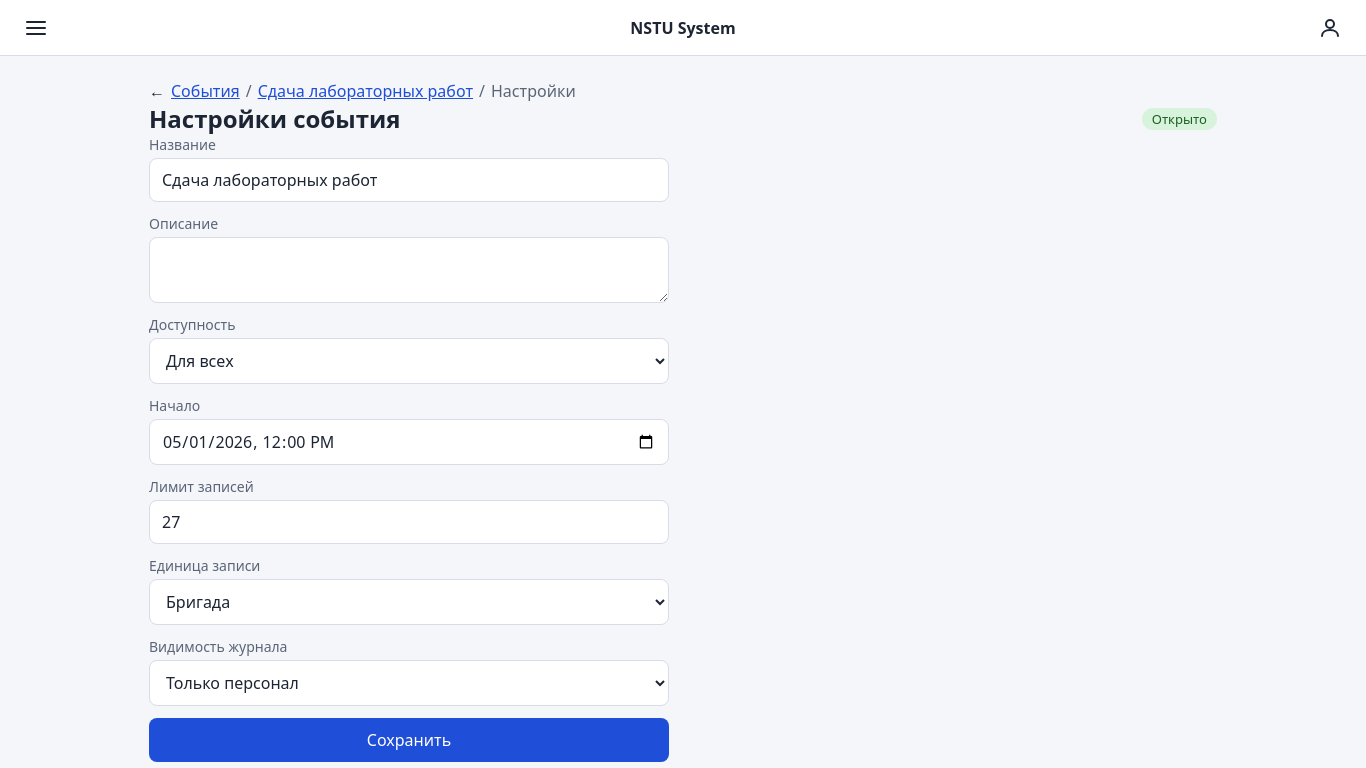
Test: настройки события /e/:slug/settings › сохранение старостой отправляет PATCH без полей администратора
The width and height of the screenshot is (1366, 768).
Step 1. Replace the text in the field labelled "Название" with "Новое название" → coordinates (409, 180), box [149,158,669,202]
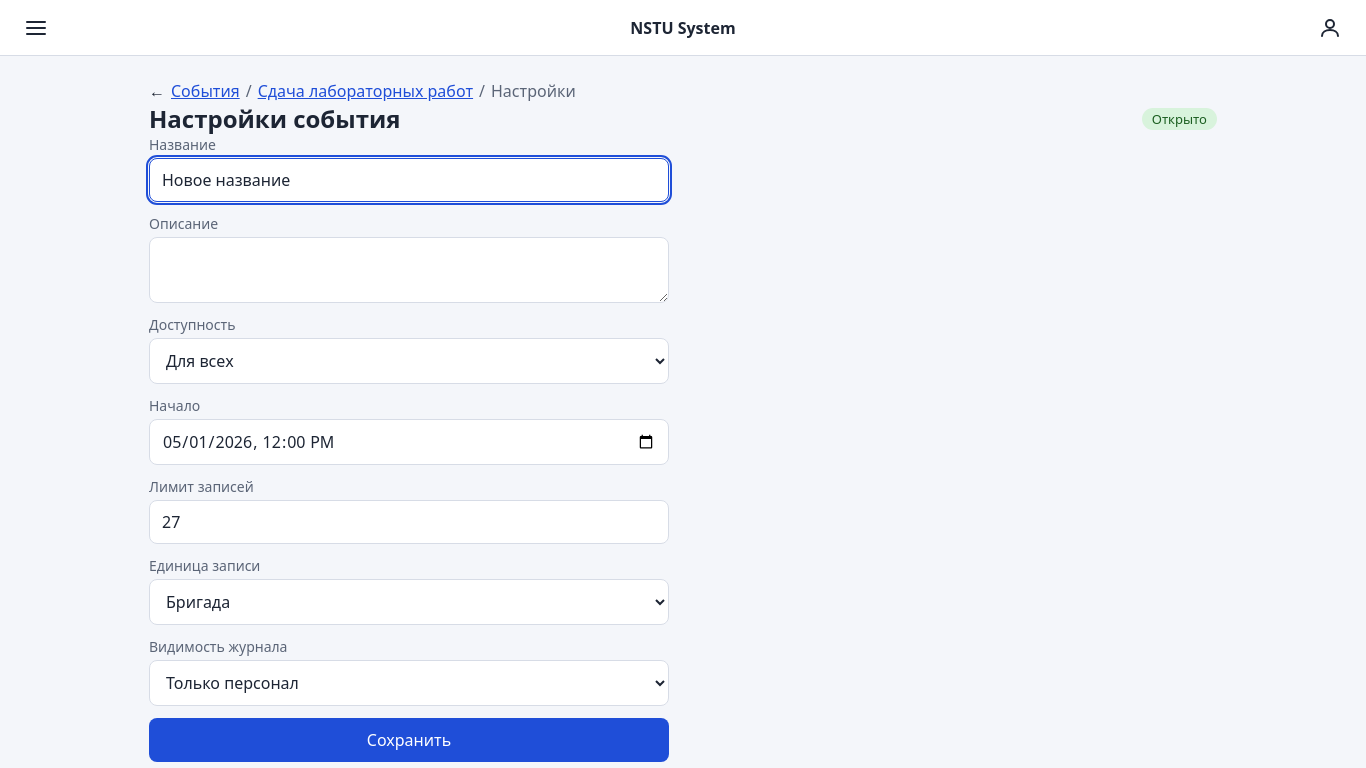
Step 2. Click the button "Сохранить" → coordinates (409, 740), box [149,718,669,762]
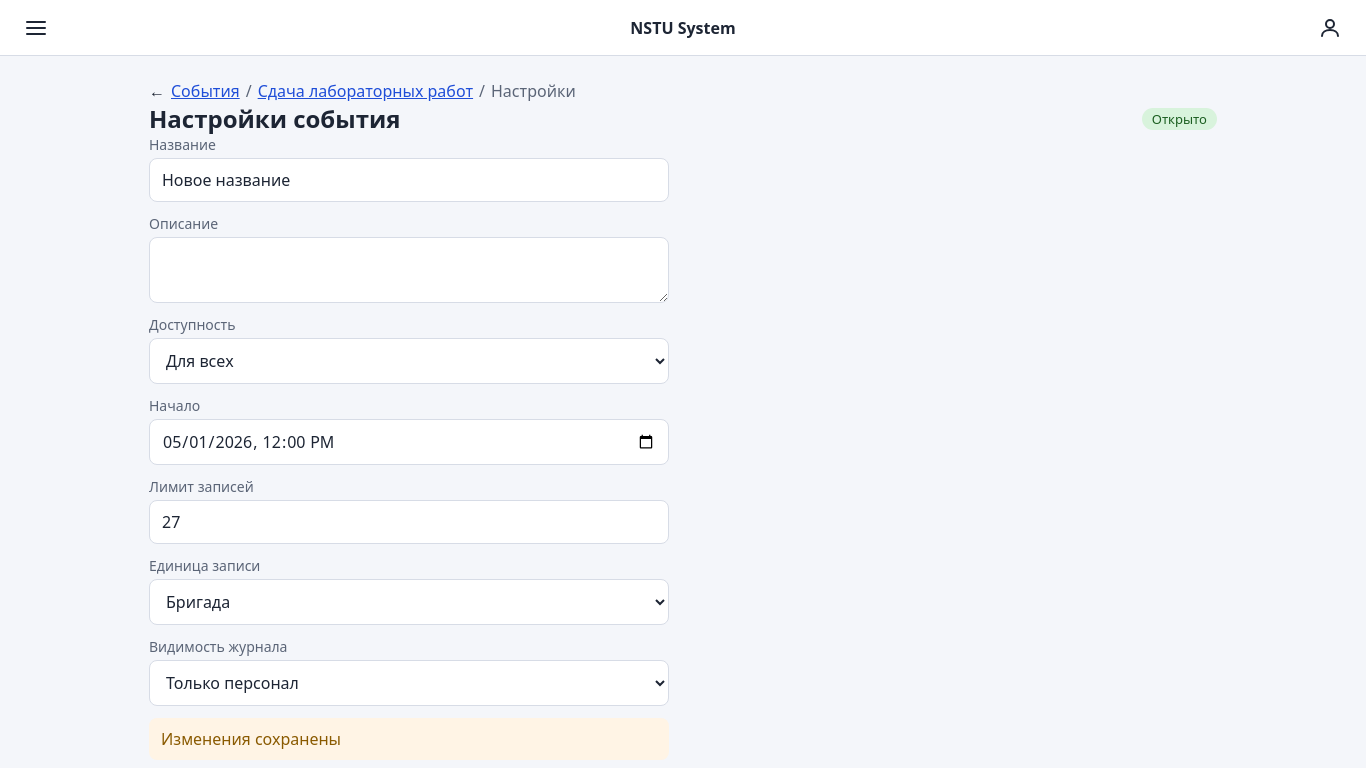
Result: the message reads "Изменения сохранены" at [161,728,341,750]
